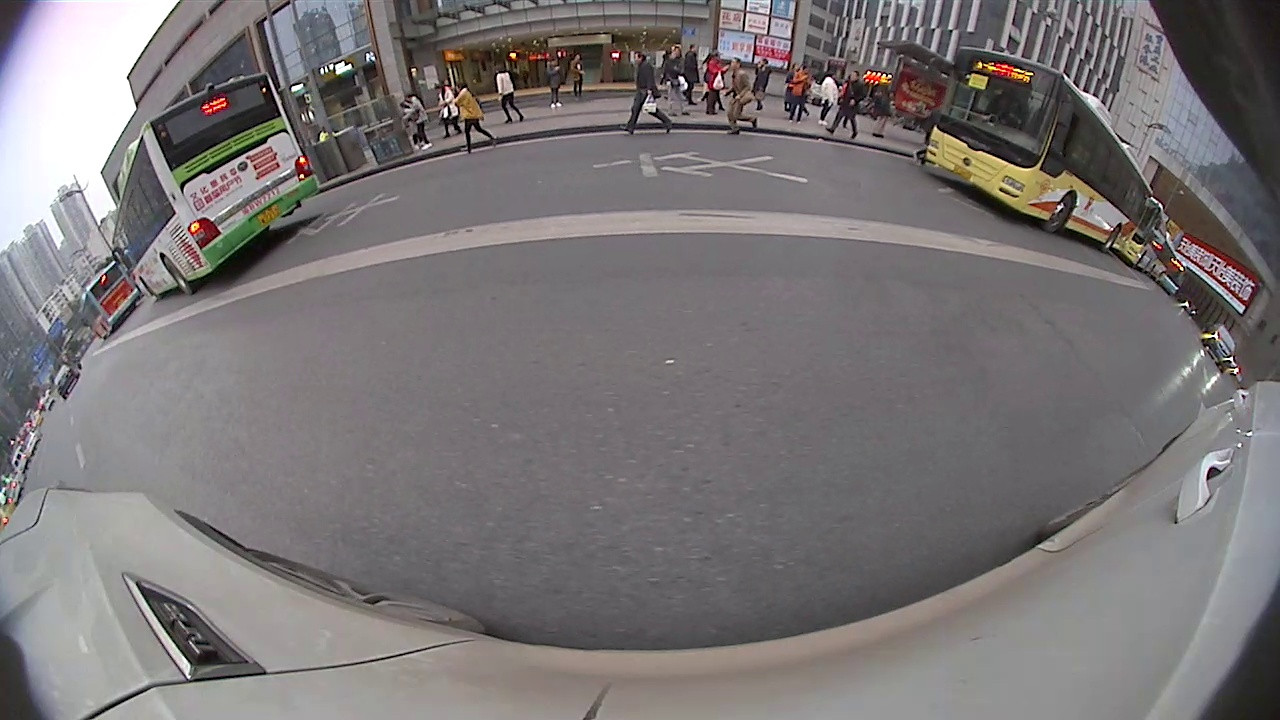bus: (920, 45, 1153, 257), (112, 72, 319, 304), (78, 255, 139, 342)
front: (1048, 190, 1075, 232)
person: (836, 71, 867, 142), (631, 50, 656, 135), (456, 82, 483, 154), (732, 58, 746, 137)
rear: (154, 256, 196, 296), (1105, 221, 1124, 249)
